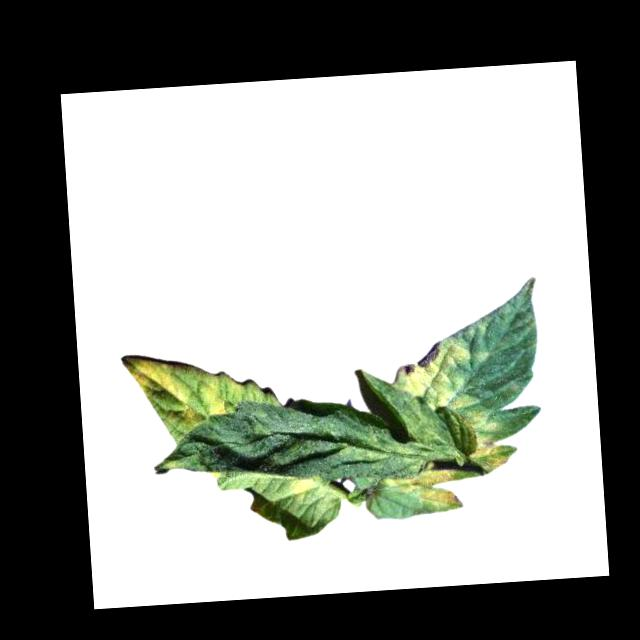Leaf_Mold: (120, 347, 246, 430), (335, 399, 457, 473), (388, 337, 480, 416), (382, 464, 466, 515), (462, 409, 513, 475), (291, 474, 322, 505)
